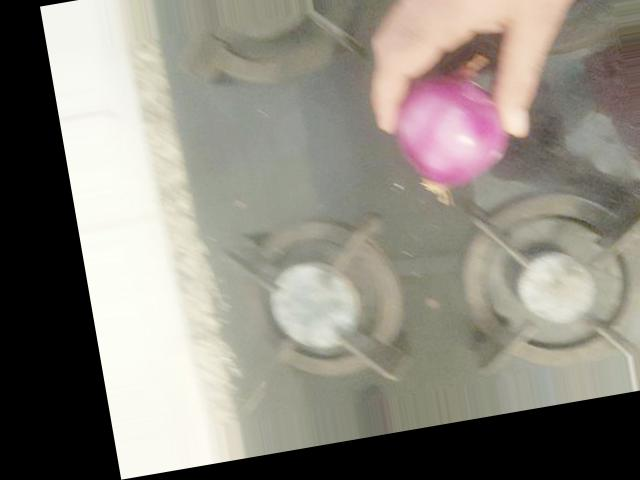onion: (385, 56, 522, 198)
